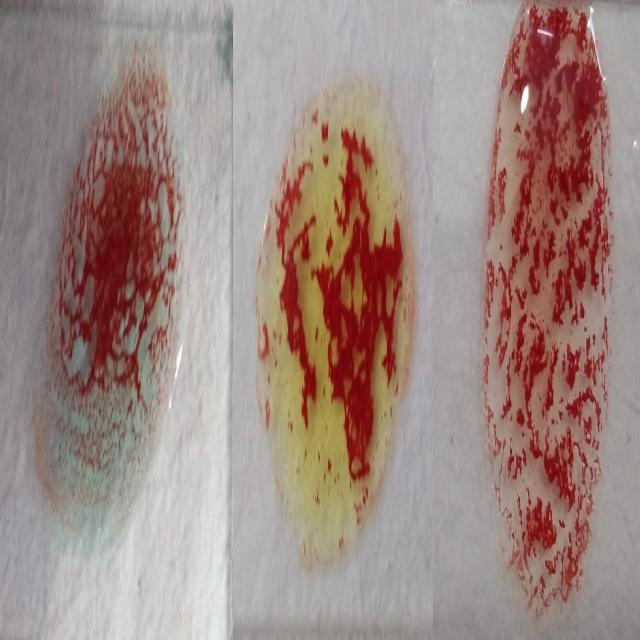A: (37, 55, 184, 547)
B: (260, 75, 414, 593)
D: (484, 0, 617, 633)
